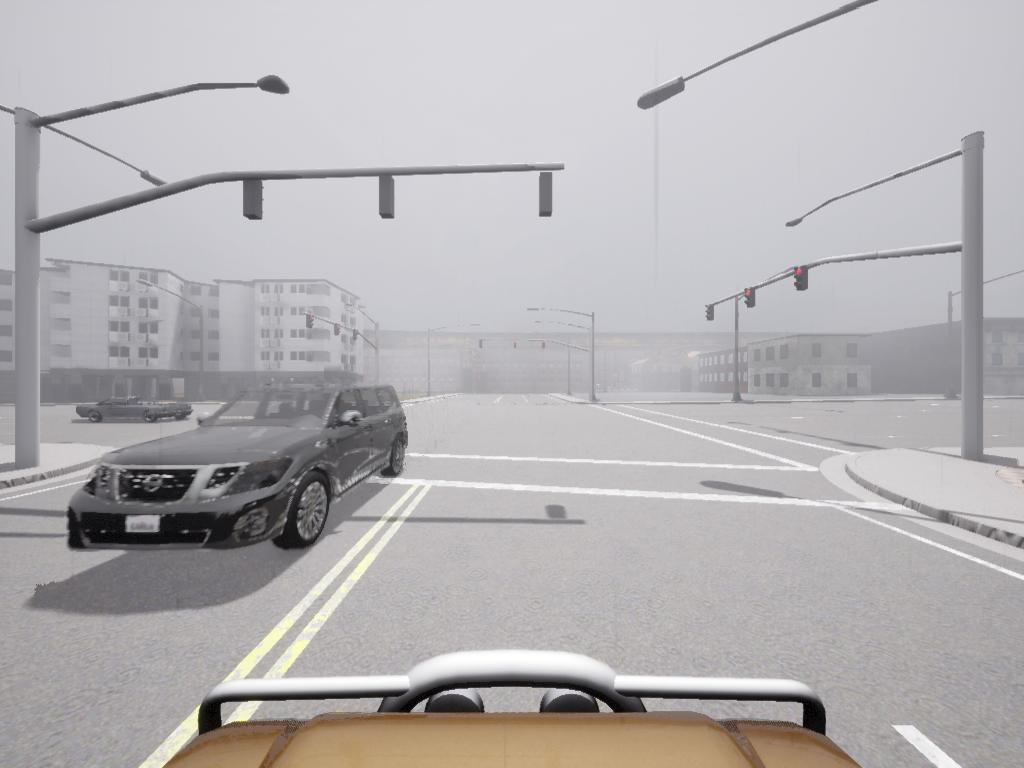traffic_light: (244, 178, 268, 222), (537, 174, 555, 219), (380, 174, 397, 220), (798, 268, 812, 293), (747, 287, 758, 308), (306, 313, 315, 333), (706, 307, 716, 323), (354, 329, 361, 344), (336, 324, 342, 338), (479, 339, 485, 350), (542, 341, 549, 350), (514, 340, 519, 352)
